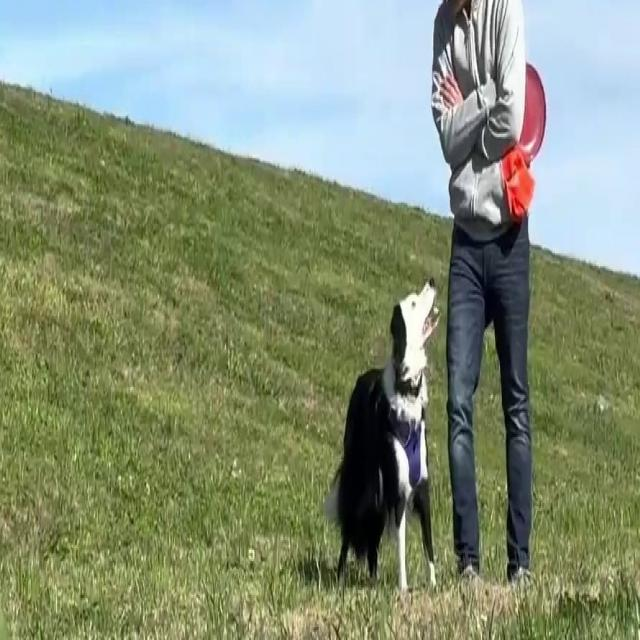Unleashed_Dog: (321, 202, 494, 594)
